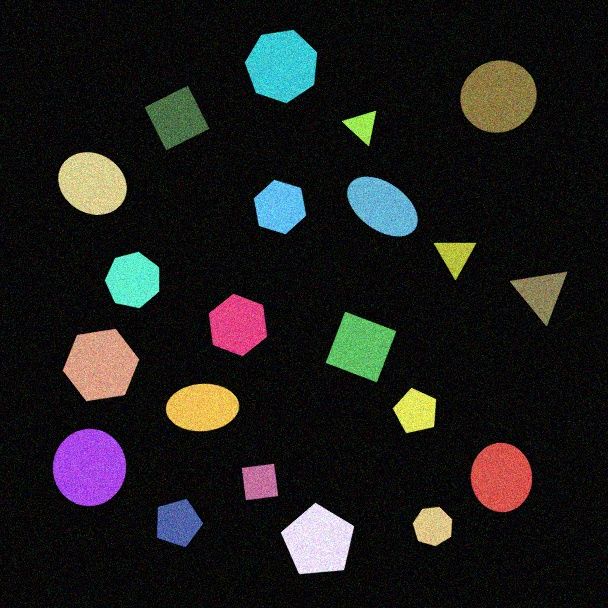Circulo: (52, 428, 127, 507), (460, 59, 537, 134), (470, 442, 533, 513)
Elipse: (57, 151, 128, 216), (346, 176, 419, 237), (165, 383, 240, 432)
Heptagono: (244, 29, 318, 104), (104, 251, 160, 309), (412, 506, 453, 547)
Hexagono: (62, 328, 140, 402), (208, 293, 268, 357), (253, 179, 307, 235)
Pentagono: (280, 502, 355, 575), (156, 498, 204, 548), (392, 387, 437, 434)
Quadrado: (325, 311, 397, 383), (144, 85, 210, 151), (241, 463, 279, 501)
Triangulo: (509, 271, 568, 327), (433, 242, 477, 281), (342, 110, 377, 147)
